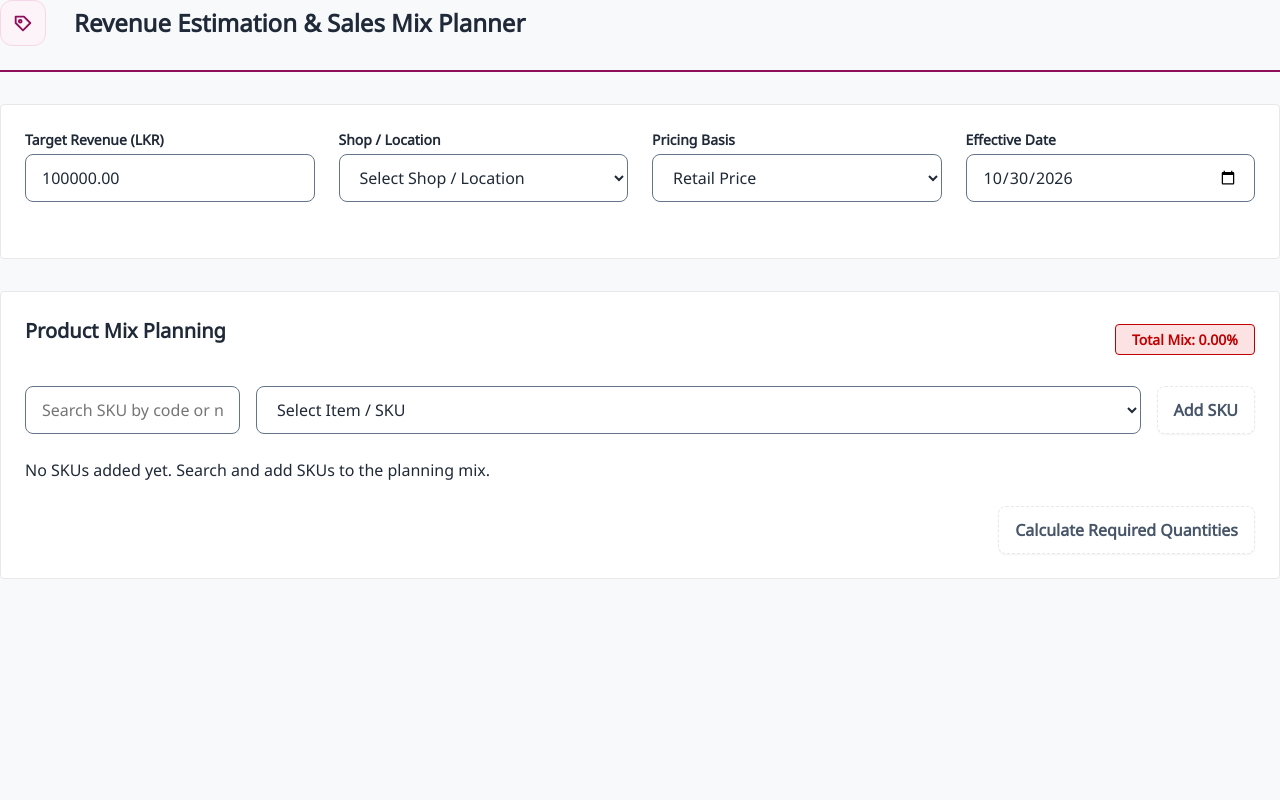
Test: RevenueEstimatorPage › handles unresolvable price error gracefully with warning banner
Select "LOC-01 Polgolla Main Shop" in the dropdown labelled "Shop / Location" at (483, 178), box [338,154,628,202]
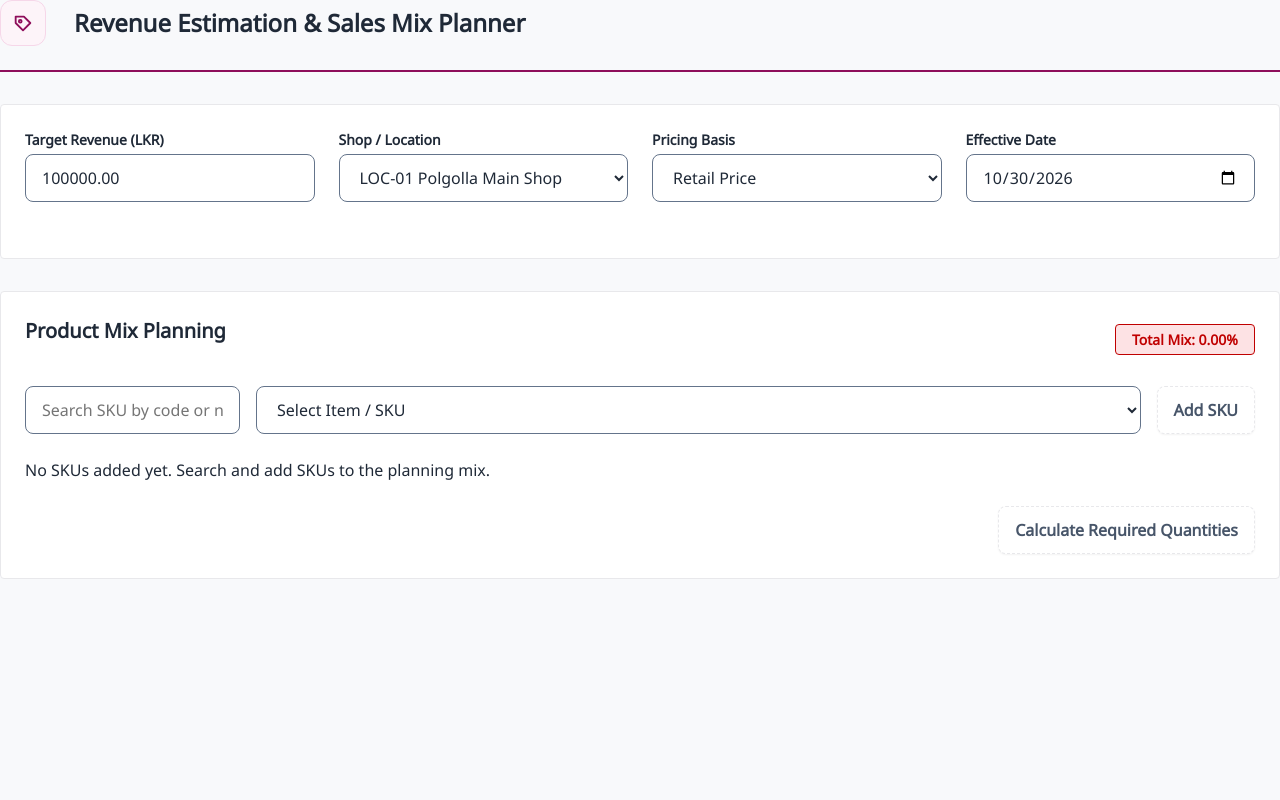
Select "SKU-RICE Samba Rice 5kg (BAG)" in the dropdown named "Select Item / SKU" at (698, 410), box [256,386,1140,434]
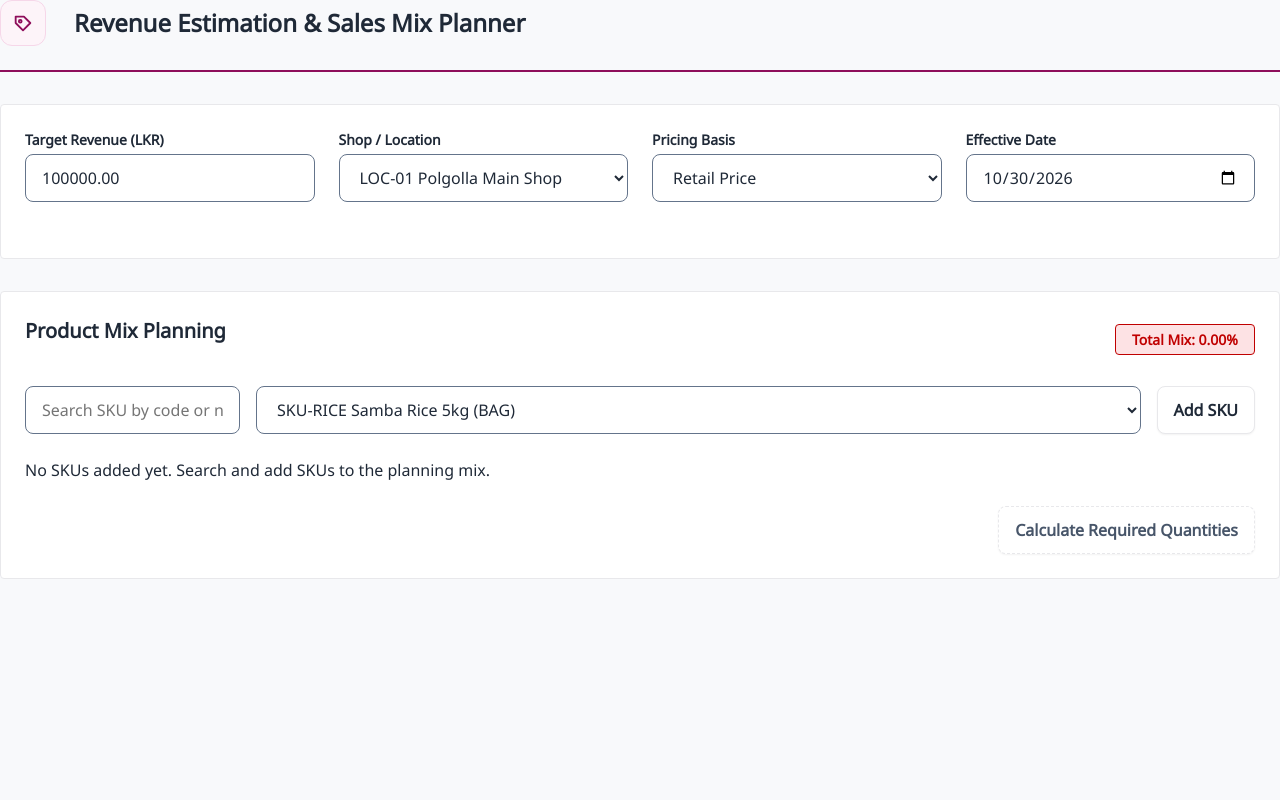
Click the button "Add SKU" at (1206, 410), box [1156,386,1255,434]
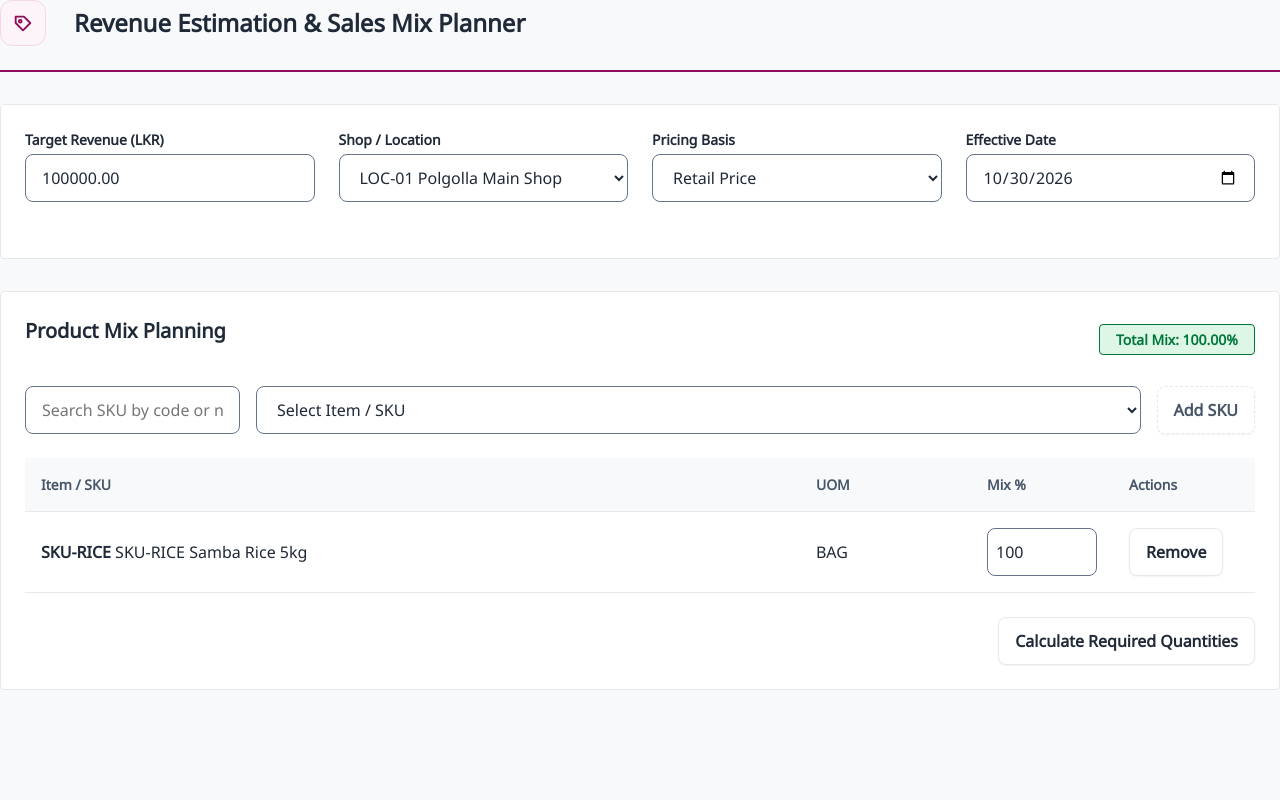
Expected: the text "Total Mix: 100.00%" is shown, [1099,324,1255,354]
Click the button "Calculate Required Quantities" at (1127, 641), box [998,617,1255,665]
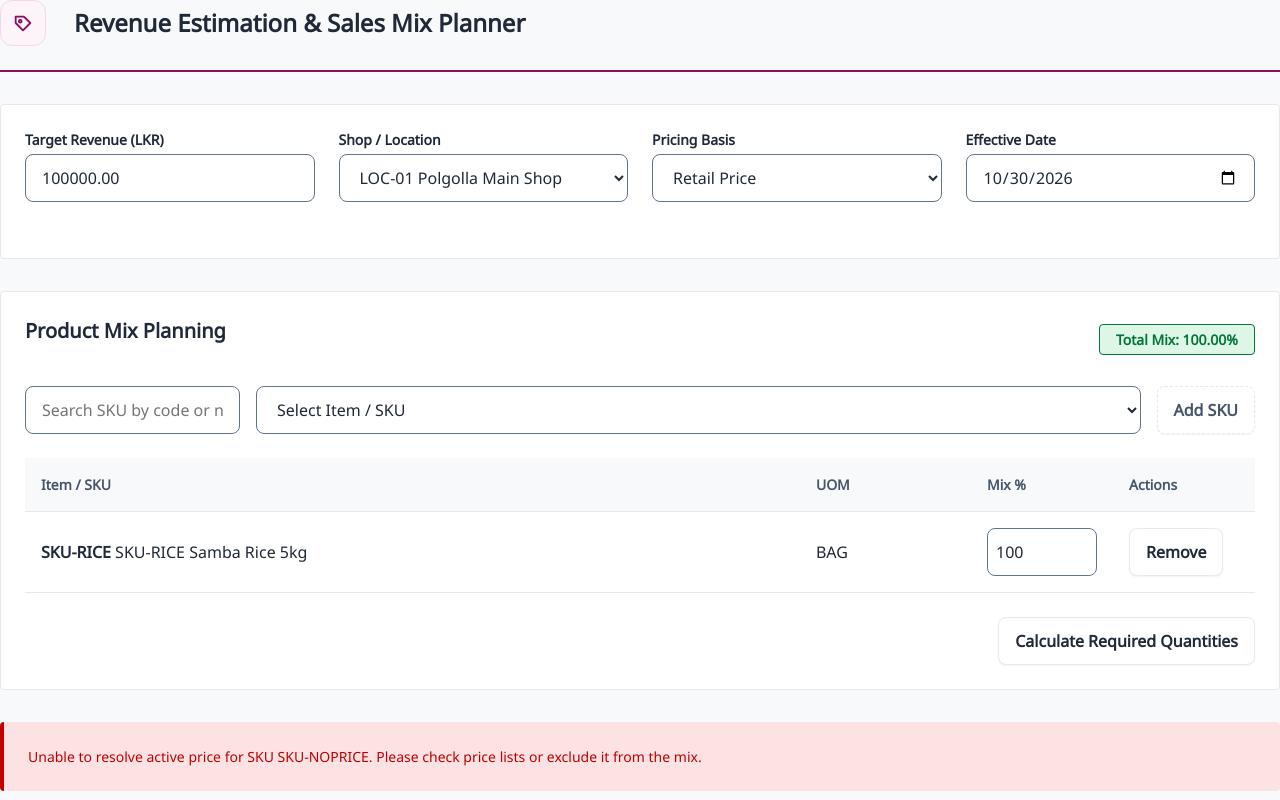
Expected: the text "Unable to resolve active price for SKU SKU-NOPRICE" is shown, [28,747,702,766]
